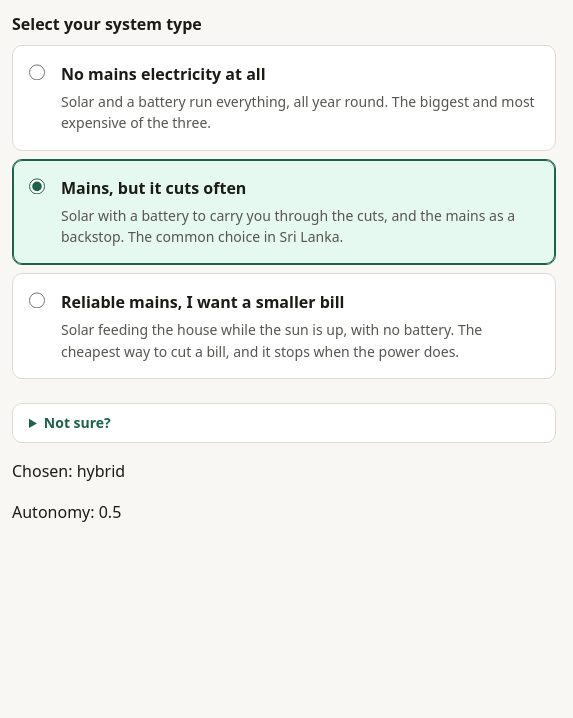
Test case: StepSystemType › chooses grid-tied when mains is reliable
Click the heading "Not sure?".
click(77, 423)  # box [44,413,111,432]
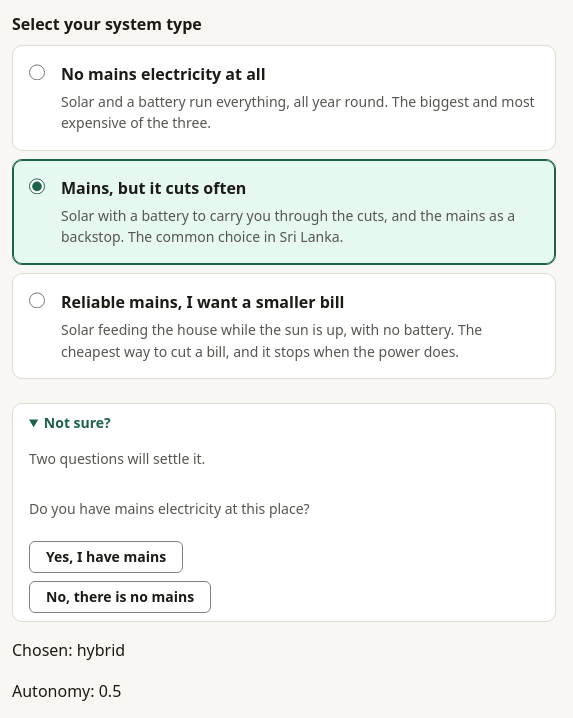
Click the button "Yes, I have mains".
click(106, 557)  # box [29,541,183,573]
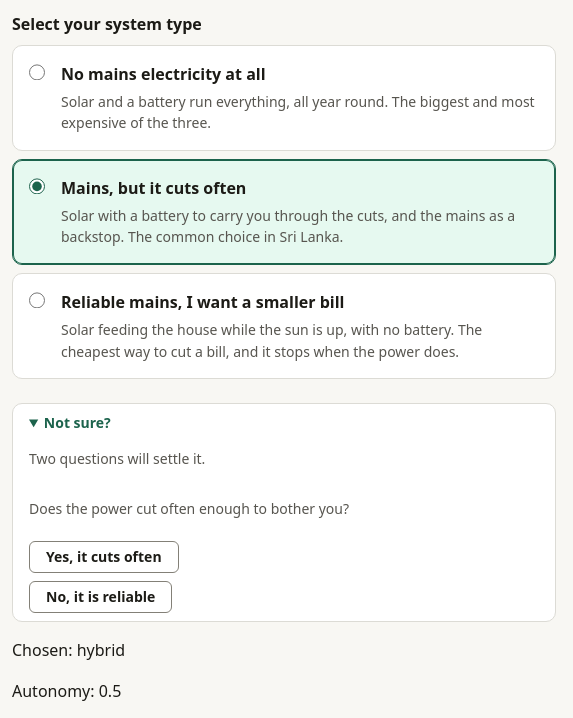
Click the button "No, it is reliable".
click(101, 597)  # box [29,581,172,613]
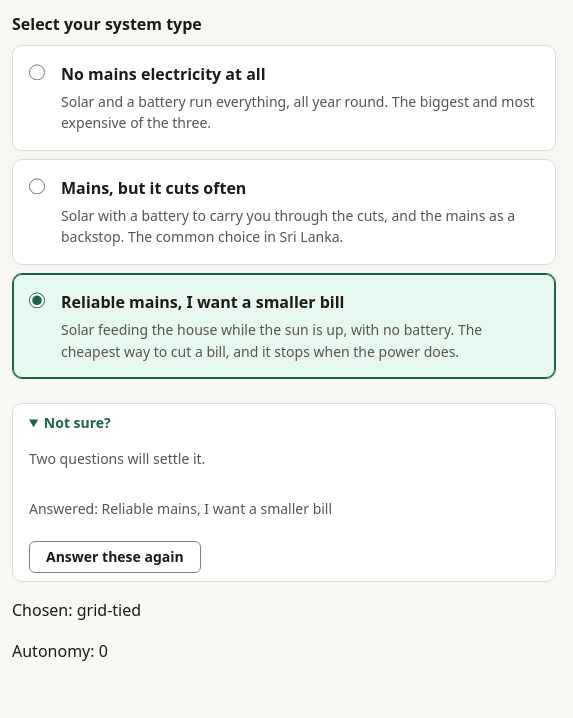
Expected: the text "Chosen: grid-tied" is shown, [12,599,141,621]
